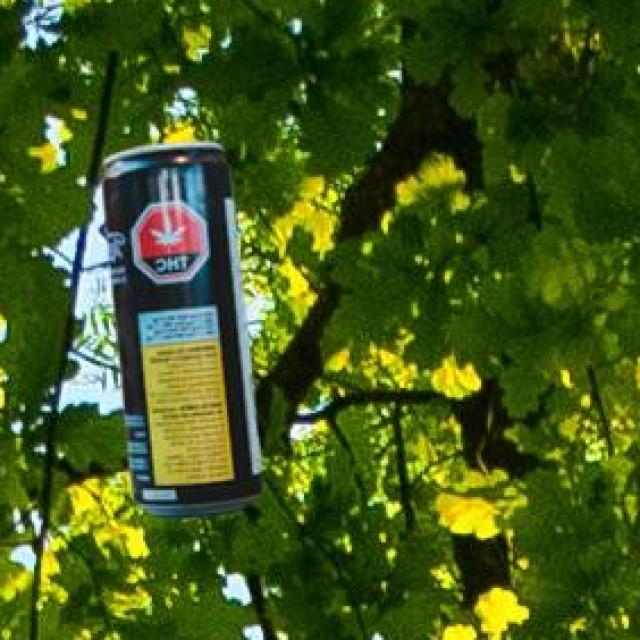logam: (106, 140, 267, 514)
